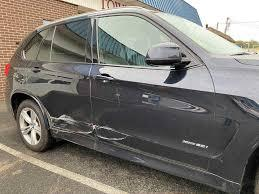RunningBoard-Dent: (121, 150, 190, 178)
doorouter-dent: (92, 66, 212, 136), (27, 64, 93, 135)
